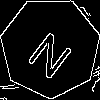N: (25, 22, 81, 82)
